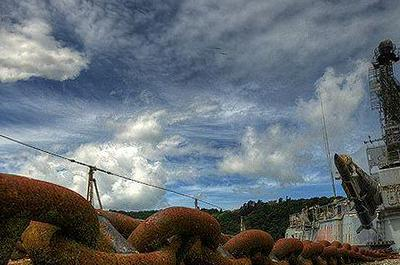rust: (2, 171, 147, 263), (151, 208, 272, 265), (276, 234, 400, 263)
